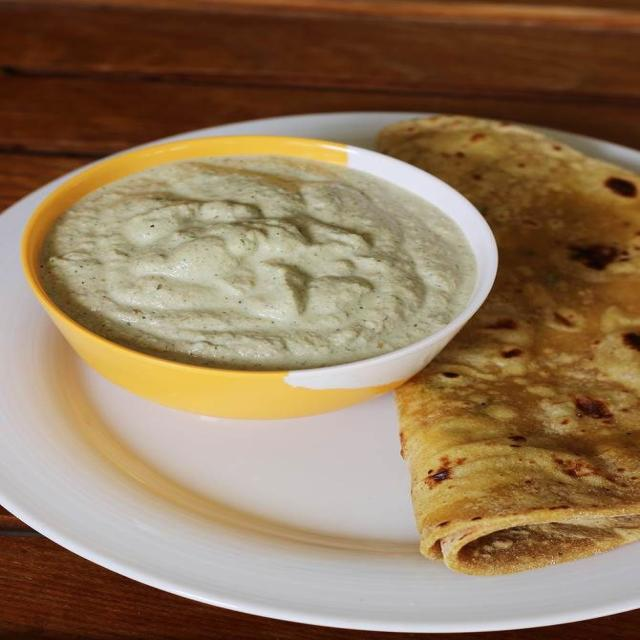chapathi: (366, 94, 640, 581)
